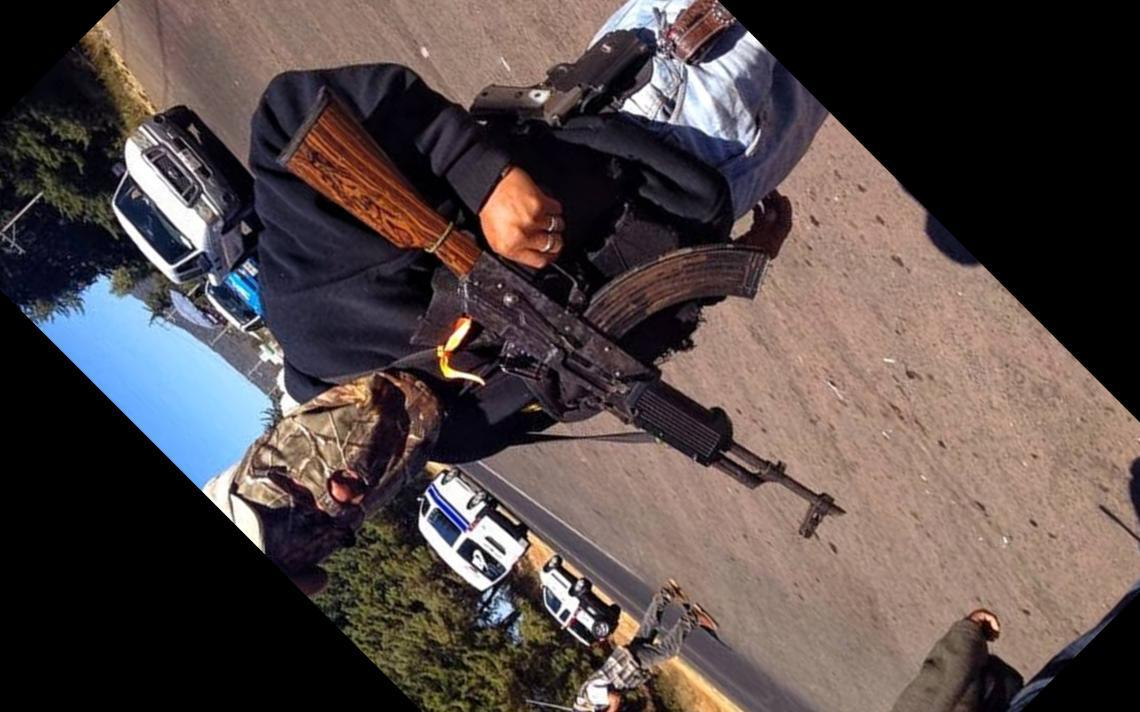larga: (266, 84, 849, 541), (521, 694, 582, 712)
